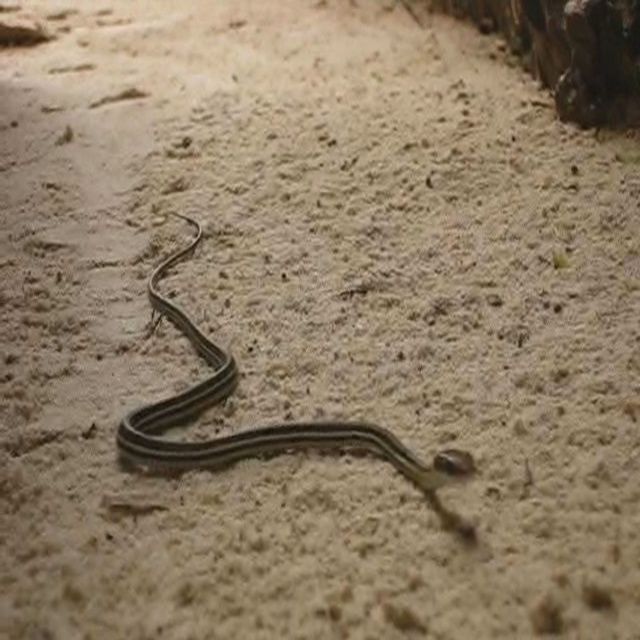Snake: (115, 209, 479, 485)
